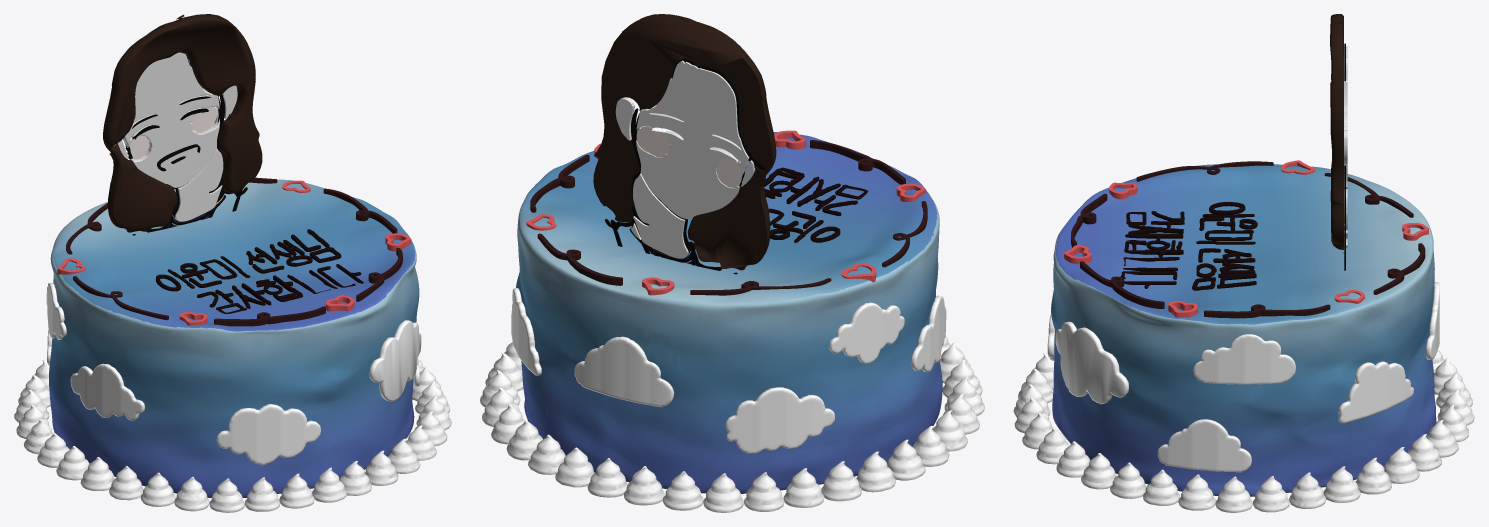
File: cake.gltf
The picture shows the model from 3 angles, left to right: view 1: azimuth 30°, elevation 25°; view 2: azimuth 150°, elevation 25°; view 3: azimuth 270°, elevation 25°; orthographic projection. The views are drawn at different scales.
Parts seen in each view (by area): view 1: Cylinder, 자산_22, Circle.007, 자산 14.001, Curve.039, Curve.040, path28, path34, path32, 자산_49, 자산 51, path26; view 2: Cylinder, Circle.007, 자산_22, 자산 14.001, Curve.040, path24, path14, Curve.039, path26, 자산_49, path32, path18 (+1 smaller); view 3: Cylinder, Circle.007, Curve.040, Curve.039, path34, path16, path14.001, 자산_22, path18, path14, 자산 14.001.
Part boxes in pixels (bbox=[...]): Cylinder: bbox=[49, 179, 419, 497]; 자산_22: bbox=[103, 14, 262, 232]; Circle.007: bbox=[14, 360, 451, 512]; 자산 14.001: bbox=[117, 52, 237, 221]; Curve.039: bbox=[155, 229, 363, 313]; Curve.040: bbox=[57, 177, 411, 326]; path28: bbox=[216, 404, 320, 465]; path34: bbox=[369, 320, 421, 401]; path32: bbox=[70, 363, 144, 420]; 자산_49: bbox=[125, 55, 247, 235]; 자산 51: bbox=[129, 106, 218, 159]; path26: bbox=[46, 283, 66, 339]; Cylinder: bbox=[516, 132, 942, 493]; Circle.007: bbox=[480, 336, 984, 512]; 자산_22: bbox=[593, 14, 776, 270]; 자산 14.001: bbox=[615, 60, 755, 258]; Curve.040: bbox=[526, 130, 927, 295]; path24: bbox=[725, 387, 834, 453]; path14: bbox=[574, 336, 674, 407]; Curve.039: bbox=[693, 167, 868, 242]; path26: bbox=[829, 302, 904, 363]; 자산_49: bbox=[604, 58, 765, 274]; path32: bbox=[911, 295, 946, 372]; path18: bbox=[511, 288, 541, 375]; Cylinder: bbox=[1051, 164, 1436, 496]; Circle.007: bbox=[1013, 350, 1474, 512]; Curve.040: bbox=[1064, 160, 1428, 318]; Curve.039: bbox=[1120, 202, 1257, 290]; path34: bbox=[1055, 321, 1128, 404]; path16: bbox=[1193, 334, 1295, 384]; path14.001: bbox=[1157, 419, 1251, 472]; 자산_22: bbox=[1330, 14, 1343, 253]; path18: bbox=[1338, 361, 1413, 423]; path14: bbox=[1426, 282, 1439, 359]; 자산 14.001: bbox=[1344, 46, 1347, 249].
Size of the model in its own units: 2.4 by 2.28 by 2.4.
Materials: 12 (1 with a texture image).
